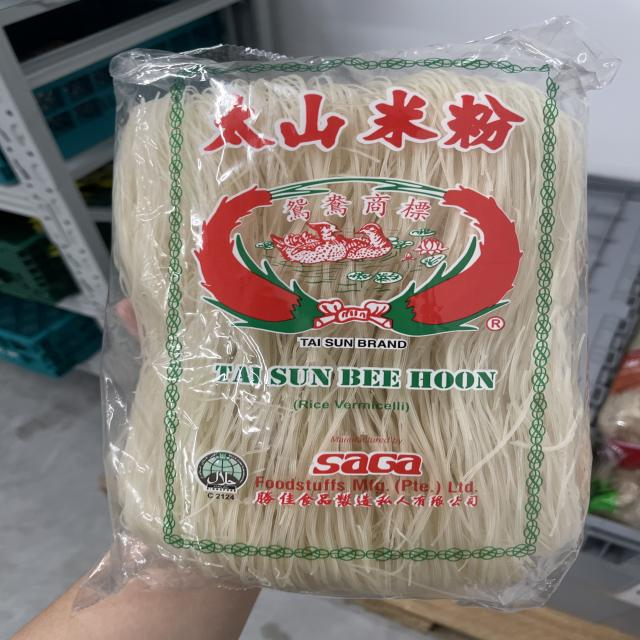object_name: (123, 62, 559, 590)
